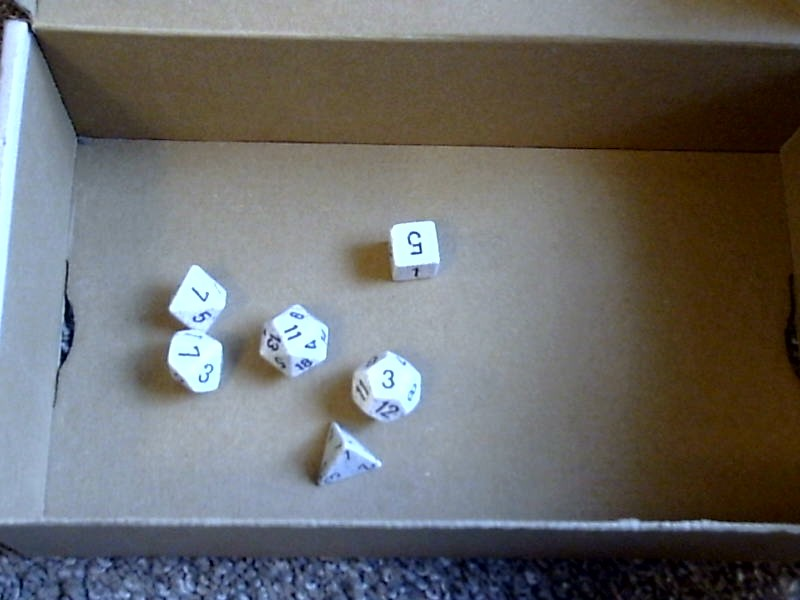d10 7: (164, 330, 231, 401)
d12 3: (347, 348, 427, 426)
d20 11: (252, 298, 331, 388)
d4 1: (307, 418, 382, 491)
d6 5: (381, 215, 444, 286)
d8 7: (161, 262, 231, 332)
